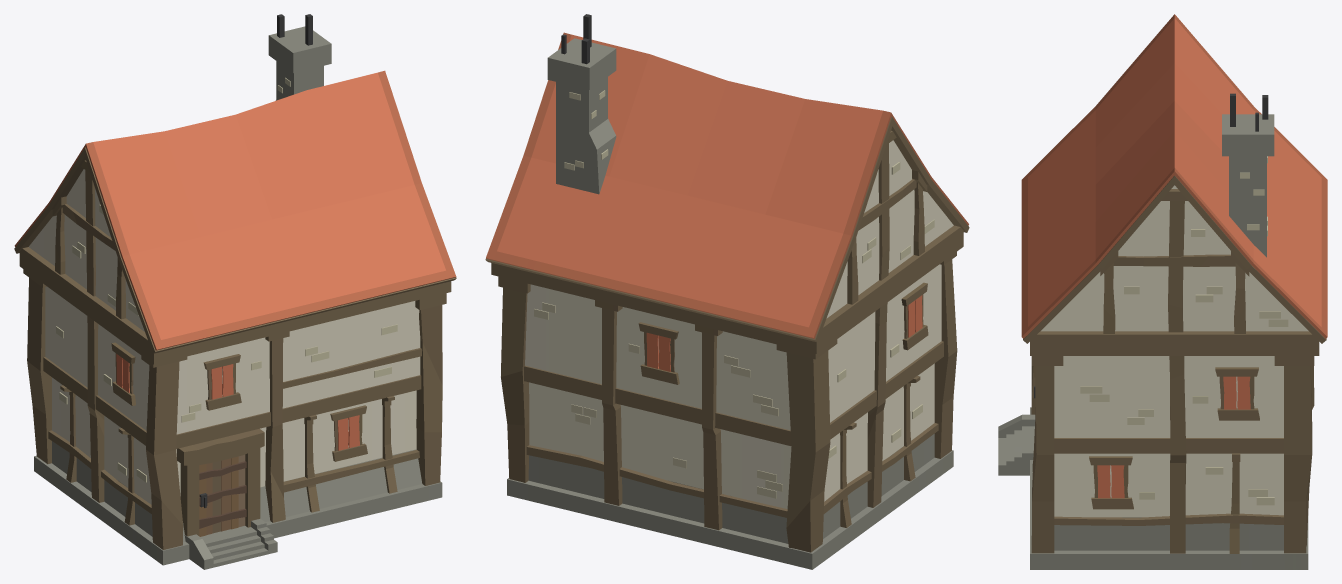
Rendered from House_12.fbx.
3 renders of one model, left to right at view 1: azimuth 30°, elevation 25°; view 2: azimuth 150°, elevation 25°; view 3: azimuth 270°, elevation 25°, orthographic. The views are drawn at different scales.
Visible parts, largest first — view 1: House_12; view 2: House_12; view 3: House_12.
Part boxes in pixels (x1=…): House_12: x1=14, y1=14, x2=456, y2=569; House_12: x1=485, y1=14, x2=969, y2=569; House_12: x1=998, y1=14, x2=1327, y2=569.
Size of the model in its own units: 130 by 173 by 114.
Materials: 1 (1 with a texture image).
